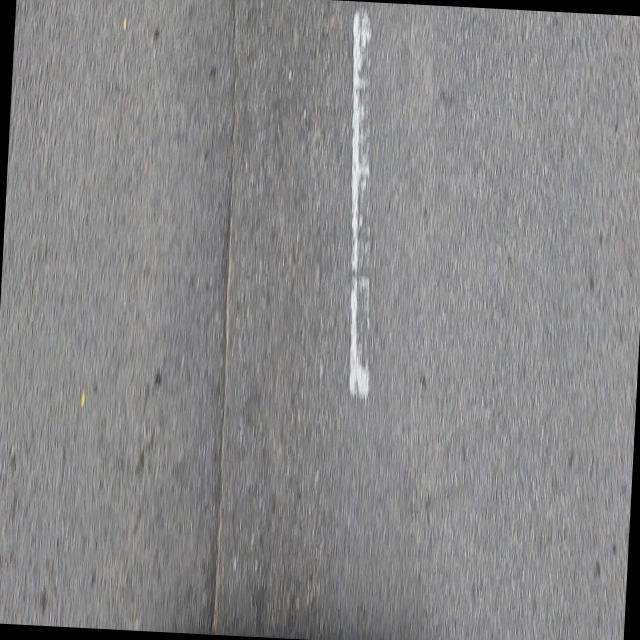Retak-Memanjang: (209, 73, 241, 635)
